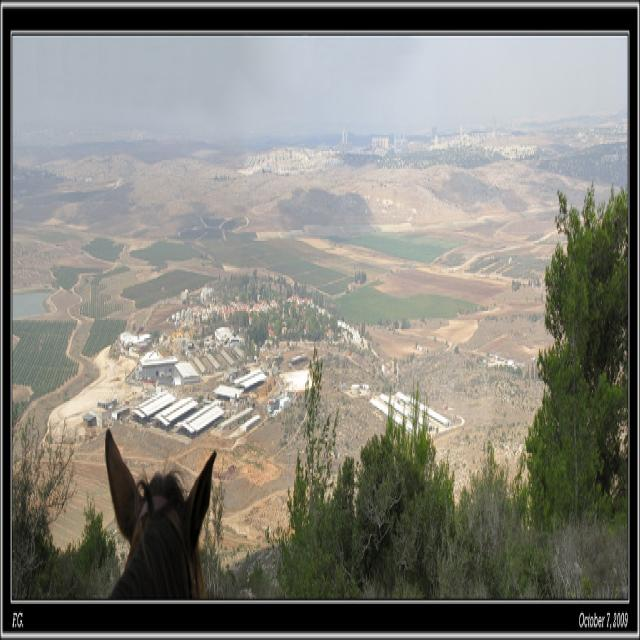Horse: (104, 432, 216, 604)
